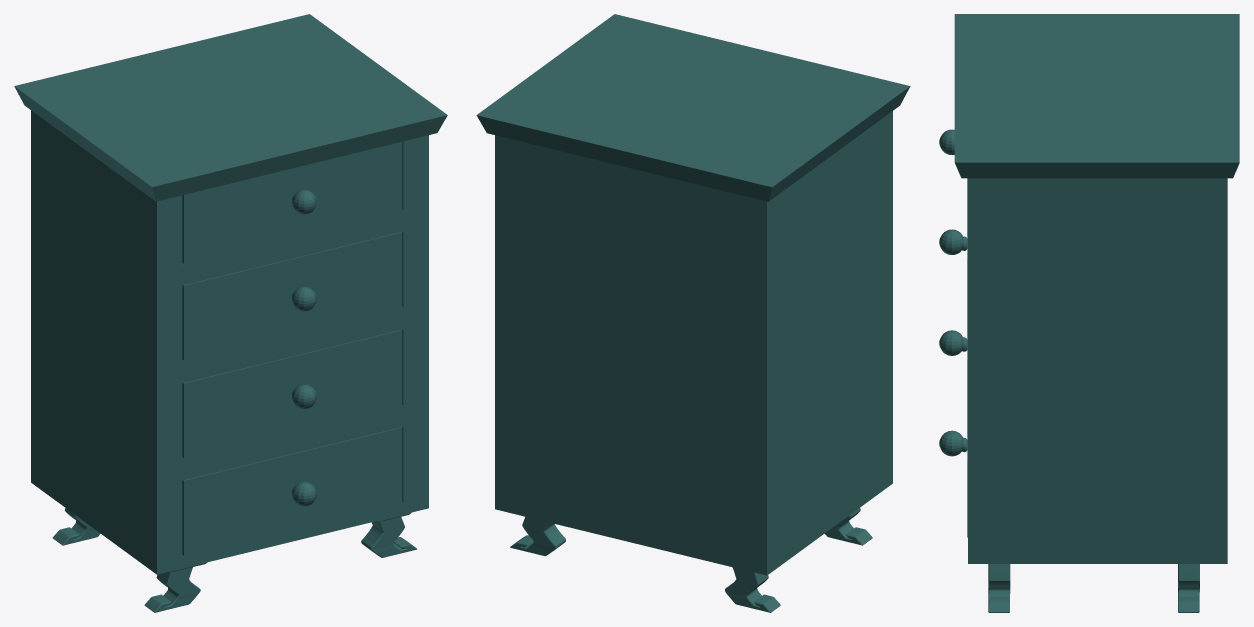
Rendered from side drawer low.fbx.
The picture shows the model from 3 angles, left to right: view 1: azimuth 30°, elevation 25°; view 2: azimuth 150°, elevation 25°; view 3: azimuth 270°, elevation 25°; orthographic projection. The views are drawn at different scales.
Visible parts, largest first — view 1: side_drawer_20_low, side_drawer_04_low, side_drawer_09_low, side_drawer_05_low, side_drawer_13_low, side_drawer_10_low, side_drawer_03_low, side_drawer_06_low, side_drawer_14_low, side_drawer_18_low, side_drawer_17_low, side_drawer_21_low; view 2: side_drawer_20_low, side_drawer_04_low, side_drawer_05_low, side_drawer_09_low, side_drawer_13_low, side_drawer_21_low, side_drawer_19_low, side_drawer_18_low; view 3: side_drawer_20_low, side_drawer_04_low, side_drawer_09_low, side_drawer_05_low, side_drawer_13_low, side_drawer_17_low, side_drawer_19_low, side_drawer_11_low, side_drawer_07_low, side_drawer_02_low.
Part boxes in pixels (box(x1,y1,x2,y2)): side_drawer_20_low: box(14, 14, 447, 201); side_drawer_04_low: box(31, 383, 428, 574); side_drawer_09_low: box(31, 191, 428, 379); side_drawer_05_low: box(31, 285, 428, 476); side_drawer_13_low: box(31, 110, 428, 282); side_drawer_10_low: box(182, 232, 402, 360); side_drawer_03_low: box(182, 427, 402, 555); side_drawer_06_low: box(182, 329, 402, 458); side_drawer_14_low: box(182, 142, 402, 263); side_drawer_18_low: box(144, 562, 207, 612); side_drawer_17_low: box(361, 512, 416, 557); side_drawer_21_low: box(52, 508, 100, 545); side_drawer_20_low: box(476, 14, 910, 201); side_drawer_04_low: box(495, 384, 892, 575); side_drawer_05_low: box(495, 286, 892, 477); side_drawer_09_low: box(495, 189, 892, 379); side_drawer_13_low: box(495, 111, 892, 282); side_drawer_21_low: box(725, 567, 780, 612); side_drawer_19_low: box(510, 517, 565, 556); side_drawer_18_low: box(824, 508, 872, 545); side_drawer_20_low: box(954, 14, 1239, 178); side_drawer_04_low: box(968, 461, 1227, 563); side_drawer_09_low: box(968, 259, 1227, 362); side_drawer_05_low: box(968, 360, 1227, 463); side_drawer_13_low: box(968, 178, 1227, 262); side_drawer_17_low: box(988, 564, 1010, 612); side_drawer_19_low: box(1178, 564, 1199, 612); side_drawer_11_low: box(939, 229, 963, 254); side_drawer_07_low: box(939, 330, 963, 355); side_drawer_02_low: box(939, 430, 963, 456).
Size of the model in its own units: 56.83 by 81.54 by 48.52.
